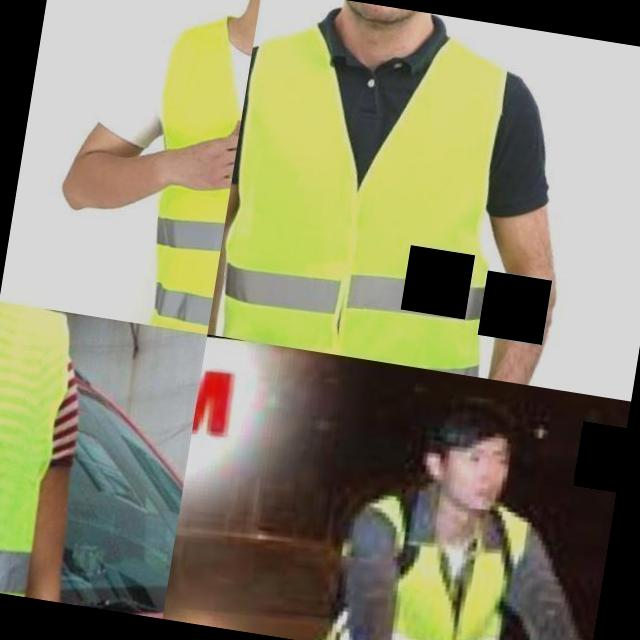vest: (208, 1, 564, 382), (108, 0, 259, 335), (326, 470, 563, 640), (0, 301, 114, 604)
